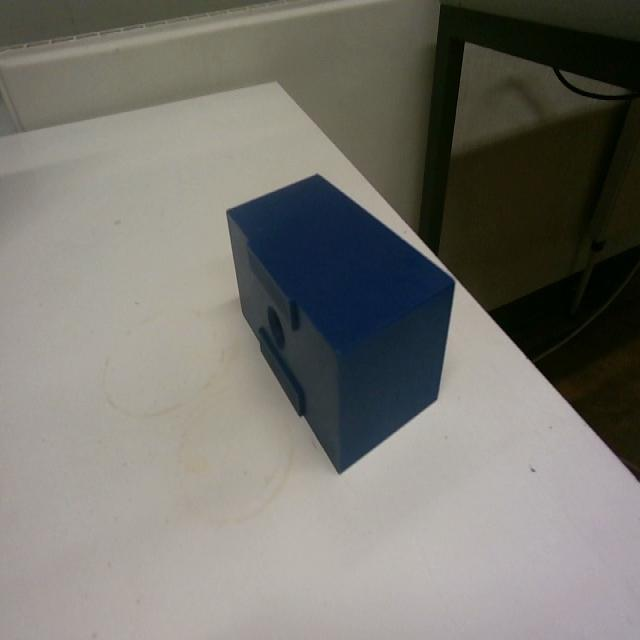Blue Cuboid: (223, 168, 457, 475)
